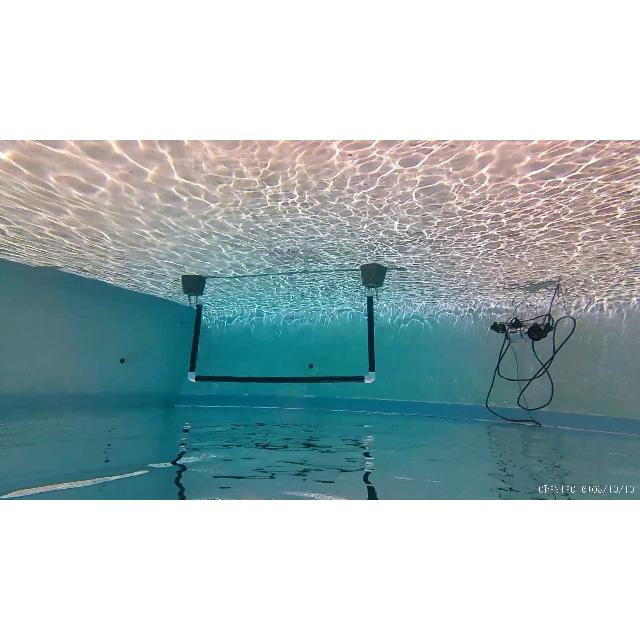prequal gate: (185, 290, 378, 384)
prequal gate leg l: (356, 262, 386, 388)
prequal gate leg r: (177, 273, 205, 382)
